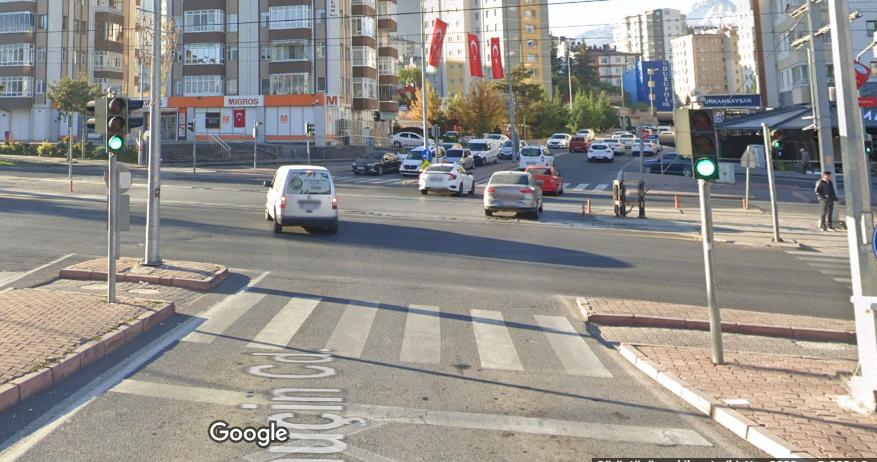greenlight: (690, 107, 720, 181), (105, 96, 129, 153)
